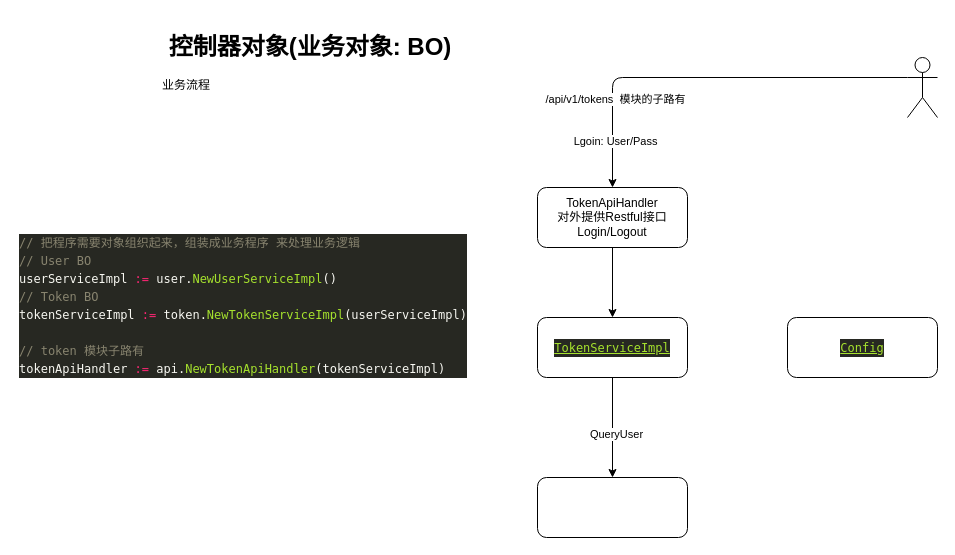
The diagram is 955 pixels wide and 555 high, and some of its shapes have lost their labels. Each missing label, with the centre of its shape:
Actor: the point at 922,87
UserServiceImpl: the point at 612,507
